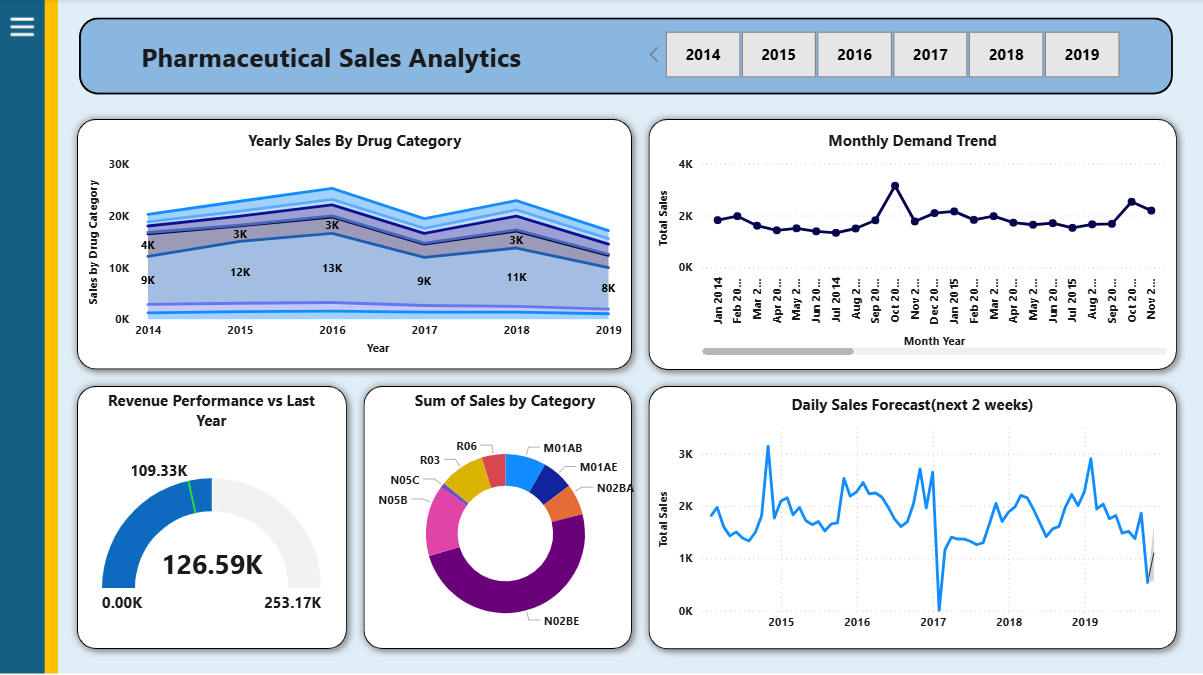

The page's visual inventory and layout, read from the dashboard file:
{"tool":"powerbi","page":{"name":"Forecast & Insights","canvas":[1280,720],"ordinal":3},"visuals":[{"type":"shape","box":[681.2,402.9,578.3,297.1],"z":0},{"type":"lineChart","title":"Daily Sales Forecast(next 2 weeks)","fields":{"Y":["DateTable.Total Sales"],"Category":["DateTable.Date"]},"box":[695.7,420.3,549.3,259.4],"z":1000},{"type":"actionButton","title":"Menu Button","box":[7.8,13.3,35.6,35.6],"z":2000,"group":"g1"},{"type":"shape","box":[75.4,119.7,606.6,283.6],"z":2000},{"type":"stackedAreaChart","title":"Yearly Sales By Drug Category","fields":{"Category":["DateTable.Year"],"Y":["Sum(SalesDaily.M01AE)","Sum(SalesDaily.N02BA)","Sum(SalesDaily.N02BE)","Sum(SalesDaily.N05B)","Sum(SalesDaily.N05C)","Sum(SalesDaily.R03)","Sum(SalesDaily.R06)","Sum(SalesDaily.M01AB)"]},"box":[91.3,140.6,575.4,243.5],"z":3000},{"type":"shape","box":[74.9,402.6,304.2,296.8],"z":4000},{"type":"gauge","title":"Revenue Performance vs Last Year","fields":{"Y":["DateTable.Total Sales"],"TargetValue":["DateTable.Total Sales LY"]},"box":[104.9,414.8,242.6,265.6],"z":5000},{"type":"shape","box":[379.1,402.6,302.7,296.8],"z":6000},{"type":"shape","box":[681.2,118.8,578.3,284.1],"z":7000},{"type":"group","id":"g1","title":"Menu Bar","box":[7.8,13.3,35.6,35.6],"z":8000},{"type":"shape","box":[86,20,1160,81.7],"z":9000},{"type":"lineChart","title":"Monthly Demand Trend","fields":{"Y":["DateTable.Total Sales"],"Category":["DateTable.Month Year"]},"box":[695.7,140.6,549.3,243.5],"z":10000},{"type":"donutChart","fields":{"Category":["SalesMonthly.Category"],"Y":["Sum(SalesMonthly.Sales)"]},"box":[395.3,414.4,286.5,283.6],"z":11000},{"type":"slicer","fields":{"Values":["DateTable.Year_Clean"]},"box":[682.6,29,530.4,62.3],"z":13000}]}

Visuals, with their boxes in screenshot pixels (x1, y1, x2, y2), scaled from the page's 1280x720 canvas onto the 1203x675 screenshot:
shape: 640:378:1184:656
"Daily Sales Forecast(next 2 weeks)" lineChart: 654:394:1170:637
"Menu Button" actionButton: 7:12:41:46
shape: 71:112:641:378
"Yearly Sales By Drug Category" stackedAreaChart: 86:132:627:360
shape: 70:377:356:656
"Revenue Performance vs Last Year" gauge: 99:389:327:638
shape: 356:377:641:656
shape: 640:111:1184:378
"Menu Bar" group: 7:12:41:46
shape: 81:19:1171:95
"Monthly Demand Trend" lineChart: 654:132:1170:360
donutChart - SalesMonthly.Category x Sum(SalesMonthly.Sales): 372:388:641:654
slicer - DateTable.Year_Clean: 642:27:1140:86
